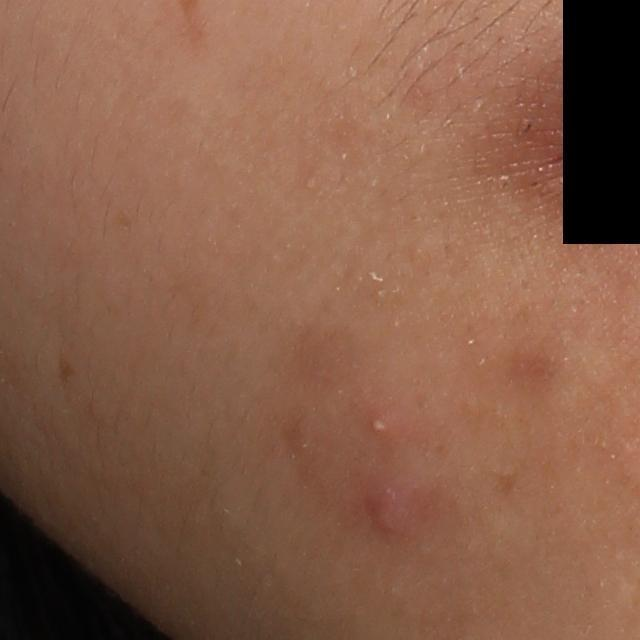papule: (365, 486, 411, 537)
pustule: (363, 409, 398, 441)
